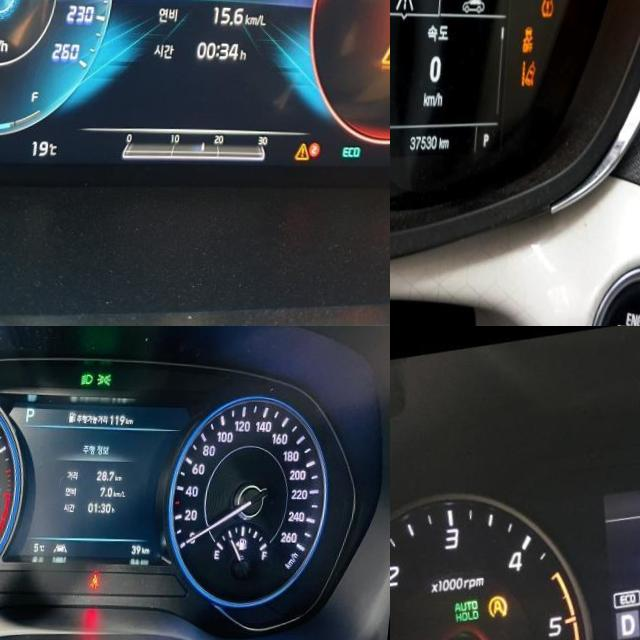Central Warning lamp: (302, 140, 320, 158)
Low beam: (85, 371, 99, 383)
SideLamp: (101, 370, 116, 384)
